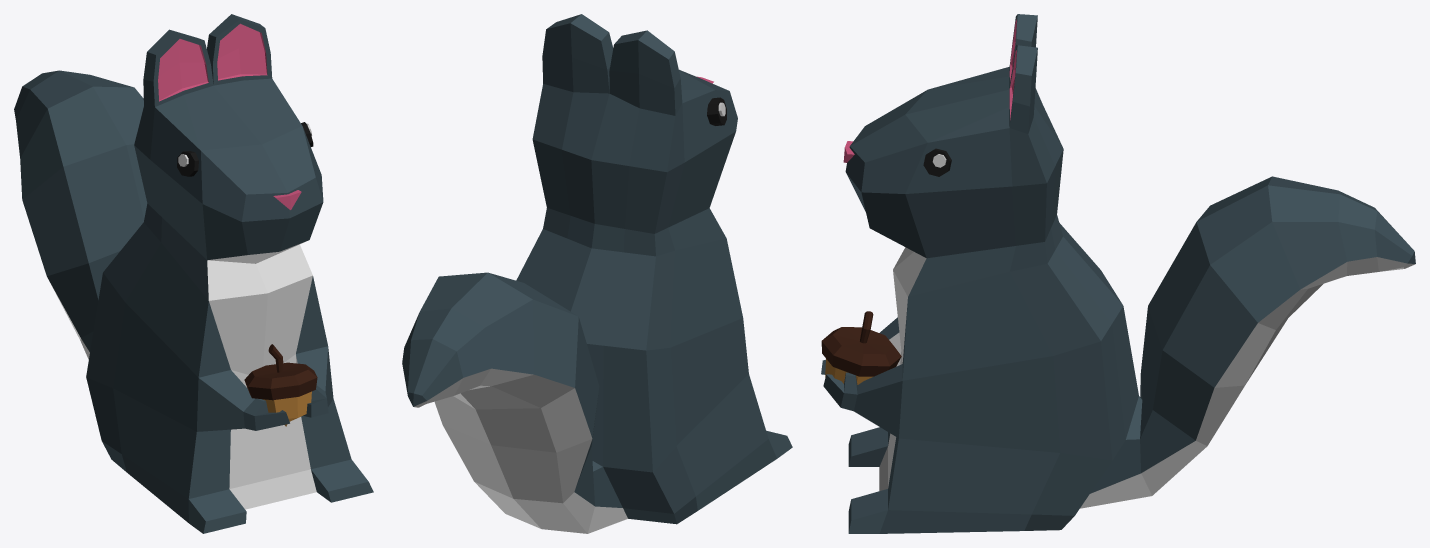
Rendered from Squirrel_01.fbx.
3 renders of one model, left to right at view 1: azimuth 30°, elevation 25°; view 2: azimuth 150°, elevation 25°; view 3: azimuth 270°, elevation 25°, orthographic. The views are drawn at different scales.
Parts seen in each view (by area): view 1: Squirrel_01; view 2: Squirrel_01; view 3: Squirrel_01.
Boxes of the visible parts, <box> form: Squirrel_01: <box>14,14,373,533</box>; Squirrel_01: <box>402,14,792,533</box>; Squirrel_01: <box>821,14,1415,533</box>.
Size of the model in its own units: 2.53 by 6.07 by 7.12.
